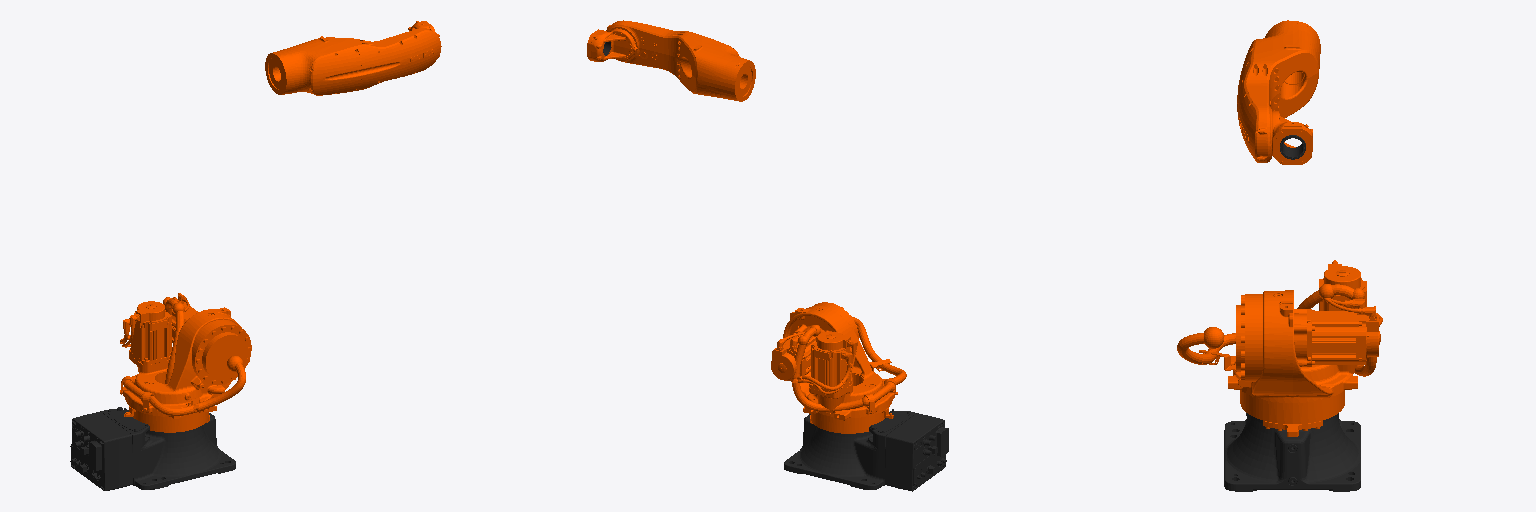
URDF robot description (kuka_kr_35_r1840_2_e):
<?xml version="1.0"?>
<robot name="kuka_kr_35_r1840_2_e">
  <material name="kuka_orange"><color rgba="1.00 0.40 0.00 1.0"/></material>
  <material name="kuka_dark_gray"><color rgba="0.20 0.20 0.20 1.0"/></material>

  <link name="base_link">
    <inertial>
      <origin xyz="-0.110131 0.000197 0.097447" rpy="0 0 0"/>
      <mass value="62.222"/>
      <inertia ixx="0.583981" ixy="-0.003460" ixz="0.093663" iyy="1.180327" iyz="-0.002957" izz="1.362378"/>
    </inertial>
    <visual>
      <origin xyz="0 0 0" rpy="0 0 0"/>
      <geometry><mesh filename="meshes/visual/base_link.stl"/></geometry>
      <material name="kuka_dark_gray"/>
    </visual>
    <collision>
      <origin xyz="0 0 0" rpy="0 0 0"/>
      <geometry><mesh filename="meshes/visual/base_link.stl"/></geometry>
    </collision>
  </link>

  <link name="link_1">
    <inertial>
      <origin xyz="0.056063 0.014016 0.368612" rpy="0 0 0"/>
      <mass value="81.667"/>
      <inertia ixx="1.377599" ixy="0.046848" ixz="-0.203314" iyy="1.226480" iyz="-0.122437" izz="1.369442"/>
    </inertial>
    <visual>
      <origin xyz="0 0 0" rpy="0 0 0"/>
      <geometry><mesh filename="meshes/visual/link_1.stl"/></geometry>
      <material name="kuka_orange"/>
    </visual>
    <collision>
      <origin xyz="0 0 0" rpy="0 0 0"/>
      <geometry><mesh filename="meshes/visual/link_1.stl"/></geometry>
    </collision>
  </link>

  <link name="link_2">
    <inertial>
      <origin xyz="-0.000080 -0.200222 0.355757" rpy="0 0 0"/>
      <mass value="101.111"/>
      <inertia ixx="6.035849" ixy="0.002966" ixz="0.030118" iyy="6.157988" iyz="0.014033" izz="0.429727"/>
    </inertial>
    <visual>
      <origin xyz="0 0 0" rpy="0 0 0"/>
      <geometry><mesh filename="meshes/visual/link_2.stl"/></geometry>
      <material name="kuka_orange"/>
    </visual>
    <collision>
      <origin xyz="0 0 0" rpy="0 0 0"/>
      <geometry><mesh filename="meshes/visual/link_2.stl"/></geometry>
    </collision>
  </link>

  <link name="link_3">
    <inertial>
      <origin xyz="0.102169 -0.030730 0.083347" rpy="0 0 0"/>
      <mass value="77.778"/>
      <inertia ixx="1.002730" ixy="0.004228" ixz="-0.327812" iyy="1.143188" iyz="-0.027293" izz="0.976473"/>
    </inertial>
    <visual>
      <origin xyz="0 0 0" rpy="0 0 0"/>
      <geometry><mesh filename="meshes/visual/link_3.stl"/></geometry>
      <material name="kuka_orange"/>
    </visual>
    <collision>
      <origin xyz="0 0 0" rpy="0 0 0"/>
      <geometry><mesh filename="meshes/visual/link_3.stl"/></geometry>
    </collision>
  </link>

  <link name="link_4">
    <inertial>
      <origin xyz="-0.299271 -0.055505 -0.002756" rpy="0 0 0"/>
      <mass value="17.500"/>
      <inertia ixx="0.089843" ixy="0.060429" ixz="0.000197" iyy="0.380789" iyz="-0.000119" izz="0.389498"/>
    </inertial>
    <visual>
      <origin xyz="0 0 0" rpy="0 0 0"/>
      <geometry><mesh filename="meshes/visual/link_4.stl"/></geometry>
      <material name="kuka_orange"/>
    </visual>
    <collision>
      <origin xyz="0 0 0" rpy="0 0 0"/>
      <geometry><mesh filename="meshes/visual/link_4.stl"/></geometry>
    </collision>
  </link>

  <link name="link_5">
    <inertial>
      <origin xyz="0.023218 -0.018883 -0.002573" rpy="0 0 0"/>
      <mass value="15.556"/>
      <inertia ixx="0.039277" ixy="-0.007072" ixz="-0.000063" iyy="0.044982" iyz="-0.000130" izz="0.044331"/>
    </inertial>
    <visual>
      <origin xyz="0 0 0" rpy="0 0 0"/>
      <geometry><mesh filename="meshes/visual/link_5.stl"/></geometry>
      <material name="kuka_orange"/>
    </visual>
    <collision>
      <origin xyz="0 0 0" rpy="0 0 0"/>
      <geometry><mesh filename="meshes/visual/link_5.stl"/></geometry>
    </collision>
  </link>

  <link name="link_6">
    <inertial>
      <origin xyz="-0.024296 -0.000019 -0.002850" rpy="0 0 0"/>
      <mass value="9.722"/>
      <inertia ixx="0.014947" ixy="0.000001" ixz="-0.000000" iyy="0.014350" iyz="-0.000000" izz="0.014359"/>
    </inertial>
    <visual>
      <origin xyz="0 0 0" rpy="0 0 0"/>
      <geometry><mesh filename="meshes/visual/link_6.stl"/></geometry>
      <material name="kuka_dark_gray"/>
    </visual>
    <collision>
      <origin xyz="0 0 0" rpy="0 0 0"/>
      <geometry><mesh filename="meshes/visual/link_6.stl"/></geometry>
    </collision>
  </link>

  <link name="tool0"/>

  <joint name="joint_a1" type="revolute">
    <parent link="base_link"/>
    <child link="link_1"/>
    <origin xyz="0.000000 0.000000 0.000000" rpy="0 0 0"/>
    <axis xyz="0.0 0.0 -1.0"/>
    <limit lower="-3.228859" upper="3.228859" effort="2527.8" velocity="3.000000"/>
    <dynamics damping="5.0" friction="1.0"/>
  </joint>

  <joint name="joint_a2" type="revolute">
    <parent link="link_1"/>
    <child link="link_2"/>
    <origin xyz="0.150000 0.000000 0.443500" rpy="0 0 0"/>
    <axis xyz="0.0 1.0 0.0"/>
    <limit lower="-1.658063" upper="2.705260" effort="2916.7" velocity="3.000000"/>
    <dynamics damping="5.0" friction="1.0"/>
  </joint>

  <joint name="joint_a3" type="revolute">
    <parent link="link_2"/>
    <child link="link_3"/>
    <origin xyz="0.000000 0.000000 0.810000" rpy="0 0 0"/>
    <axis xyz="0.0 1.0 0.0"/>
    <limit lower="-3.665191" upper="1.535890" effort="1944.4" velocity="3.000000"/>
    <dynamics damping="5.0" friction="1.0"/>
  </joint>

  <joint name="joint_a4" type="revolute">
    <parent link="link_3"/>
    <child link="link_4"/>
    <origin xyz="0.856900 0.000000 0.200000" rpy="0 0 0"/>
    <axis xyz="-1.0 0.0 -0.0"/>
    <limit lower="-3.141593" upper="3.141593" effort="777.8" velocity="3.000000"/>
    <dynamics damping="5.0" friction="1.0"/>
  </joint>

  <joint name="joint_a5" type="revolute">
    <parent link="link_4"/>
    <child link="link_5"/>
    <origin xyz="0.000000 0.000000 0.000000" rpy="0 0 0"/>
    <axis xyz="0.0 1.0 0.0"/>
    <limit lower="-3.141593" upper="3.141593" effort="544.4" velocity="3.000000"/>
    <dynamics damping="5.0" friction="1.0"/>
  </joint>

  <joint name="joint_a6" type="revolute">
    <parent link="link_5"/>
    <child link="link_6"/>
    <origin xyz="0.090000 0.000000 0.000000" rpy="0 0 0"/>
    <axis xyz="-1.0 0.0 -0.0"/>
    <limit lower="-6.248279" upper="6.248279" effort="330.6" velocity="3.000000"/>
    <dynamics damping="5.0" friction="1.0"/>
  </joint>

  <joint name="link_6-tool0" type="fixed">
    <parent link="link_6"/>
    <child link="tool0"/>
    <origin xyz="0.000000 0.000000 0.000000" rpy="0 1.57079632679 0"/>
  </joint>
</robot>

--- Render facts (derived) ---
Views: 3 orthographic renders of the robot side by side, from view 1: azimuth 30°, elevation 25°; view 2: azimuth 150°, elevation 25°; view 3: azimuth 270°, elevation 25°.
Model kuka_kr_35_r1840_2_e with 8 links and 7 joints (6 revolute, 1 fixed), rooted at base_link, posed every joint at zero.
Visible links, largest first — view 1: link_1, base_link, link_4; view 2: link_1, base_link, link_4, link_5; view 3: link_1, base_link, link_4, link_5.
Boxes of the visible links, <box> form: link_1: <box>120,293,251,432</box>; base_link: <box>70,407,235,490</box>; link_4: <box>265,28,441,95</box>; link_1: <box>771,302,906,433</box>; base_link: <box>784,409,948,491</box>; link_4: <box>606,20,755,101</box>; link_5: <box>587,29,637,61</box>; link_1: <box>1177,260,1382,436</box>; base_link: <box>1224,413,1360,491</box>; link_4: <box>1237,20,1320,162</box>; link_5: <box>1272,111,1312,164</box>.
Bounding box of the posed robot: 1.47 × 0.5588 × 1.55 m (x, y, z).
5 mesh visuals loaded from 7 distinct referenced files (5 binary STL); not drawn: 2 (reference not matched to a file when rendering).
